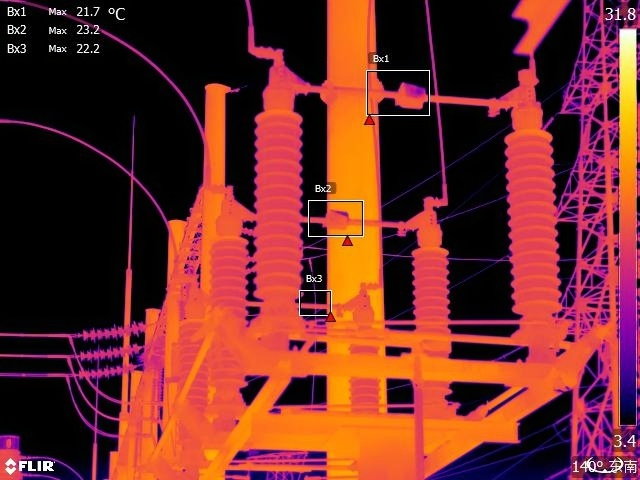insulator: (81, 319, 150, 342), (75, 361, 141, 384), (75, 345, 143, 363)
post insulator: (502, 124, 567, 318), (250, 100, 307, 302), (409, 243, 454, 396), (208, 238, 251, 392), (176, 325, 210, 416)
switch: (253, 53, 553, 129), (217, 190, 454, 248)
